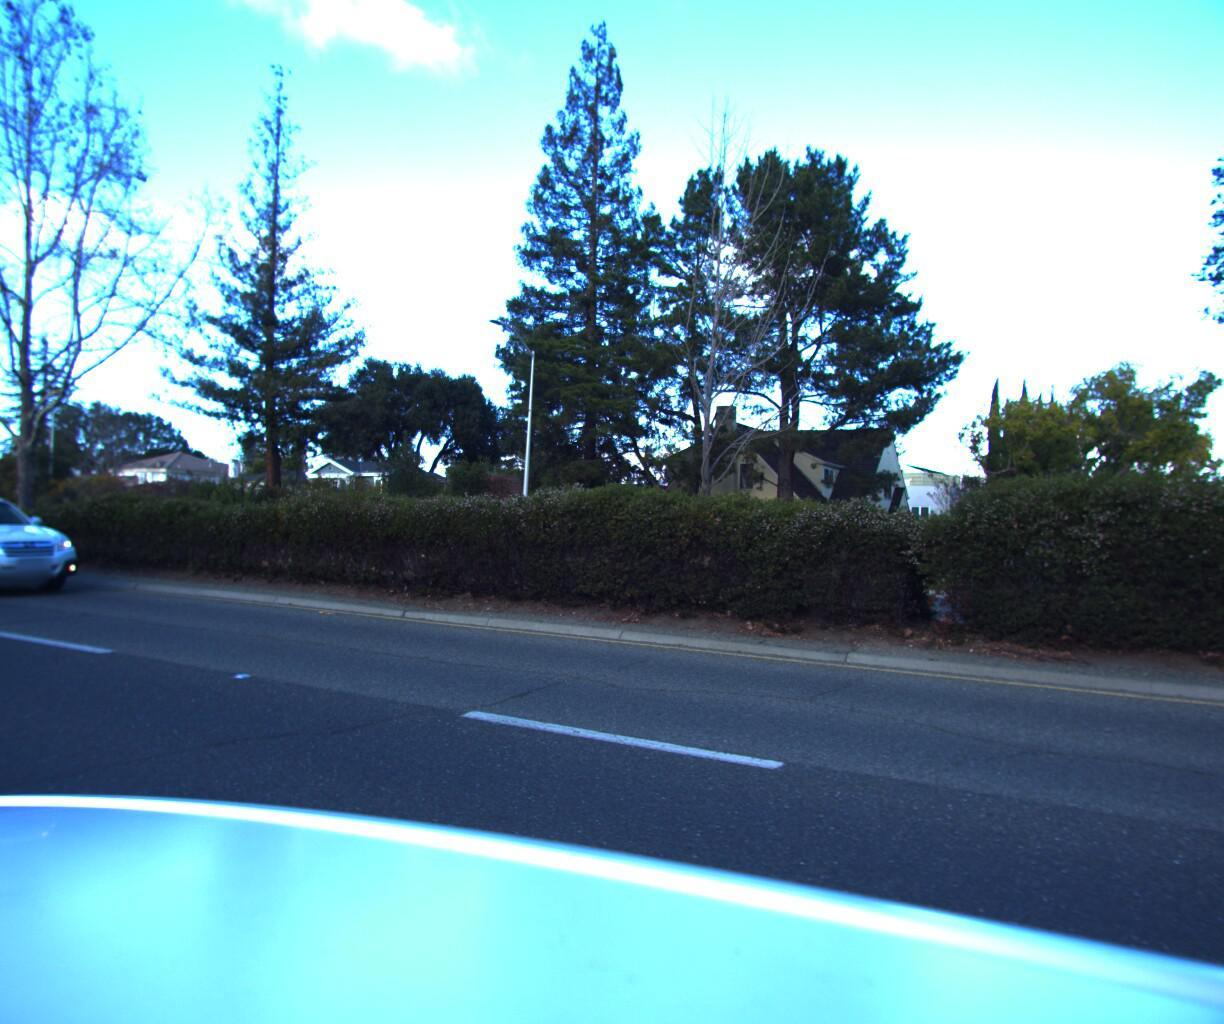car: (0, 475, 93, 601)
